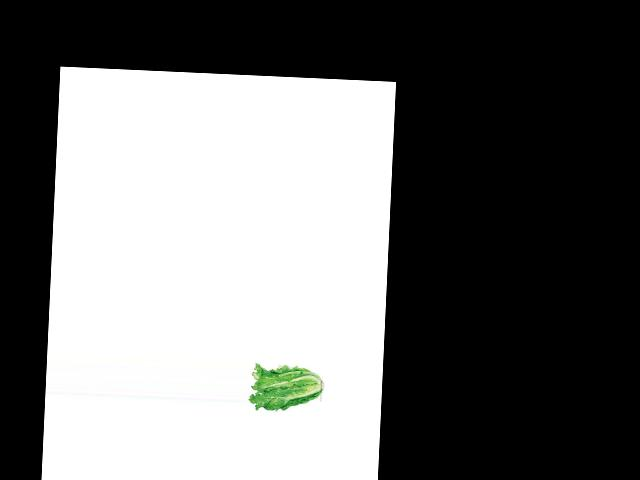lettuce: (248, 361, 323, 413)
